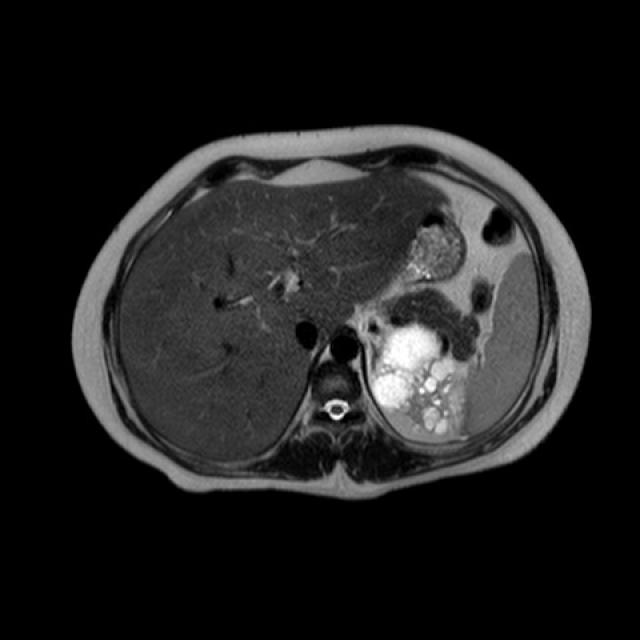sol: (372, 325, 465, 441)
